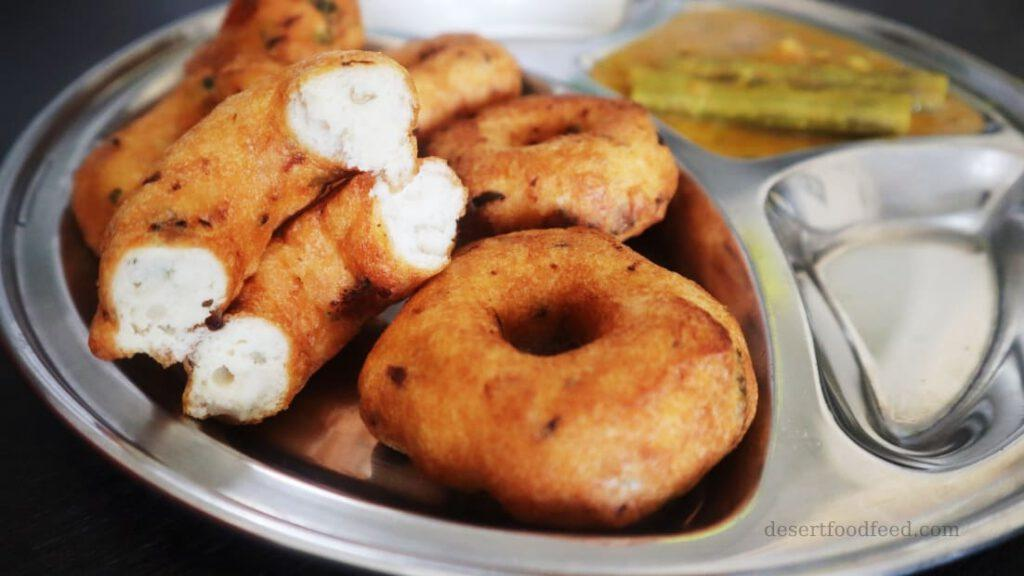mvada: (139, 57, 558, 383)
